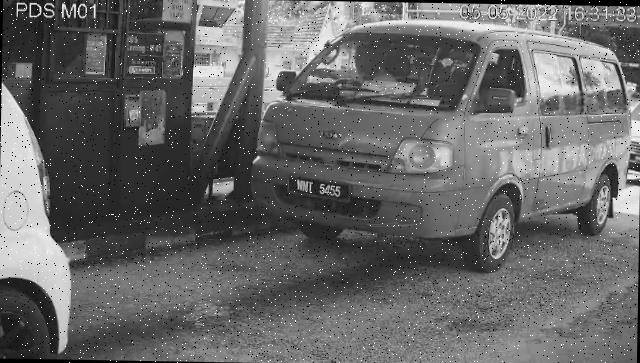License_Plate: (288, 176, 354, 206)
van: (250, 17, 635, 275)
